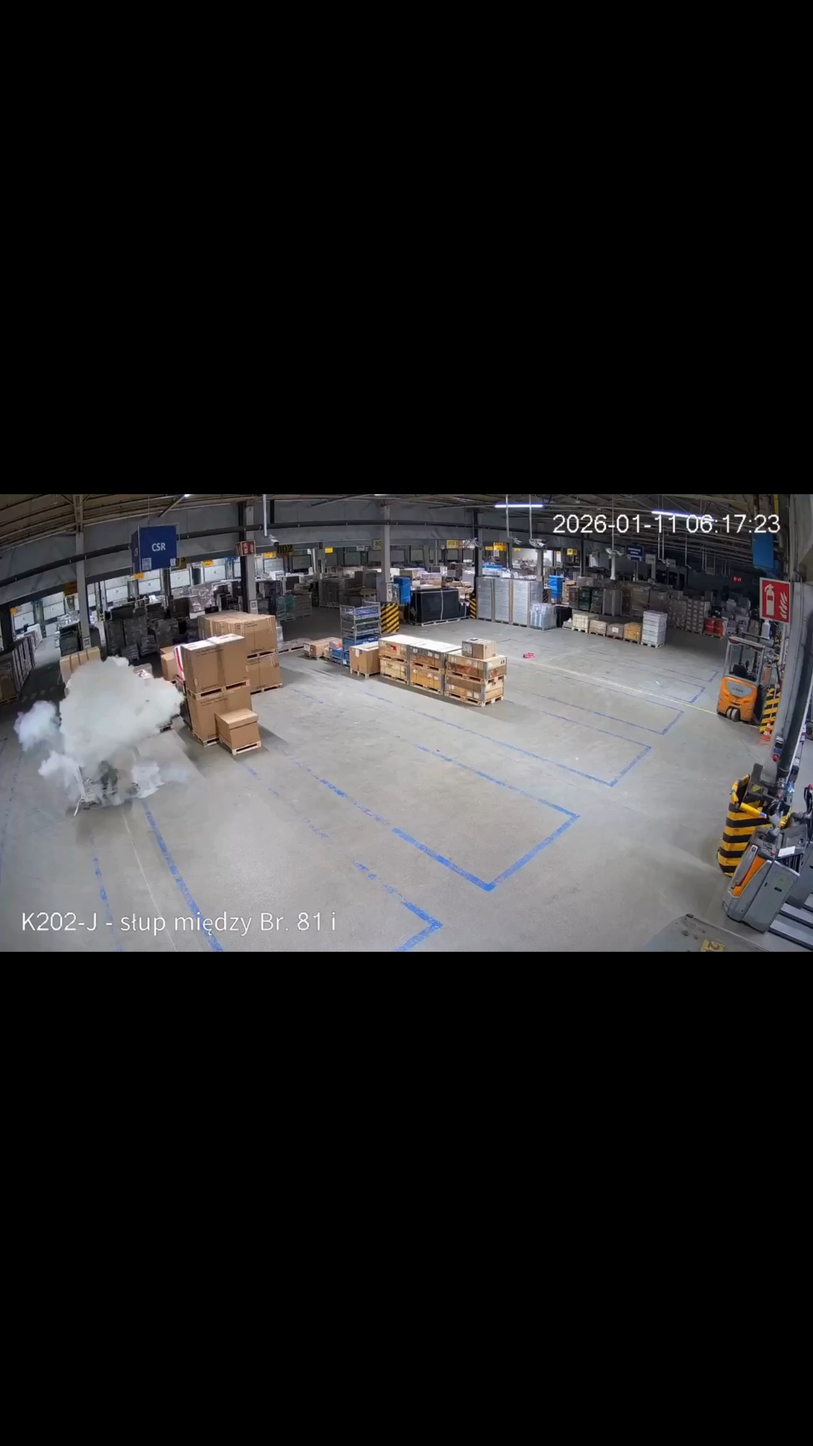smoke: (13, 653, 186, 809)
